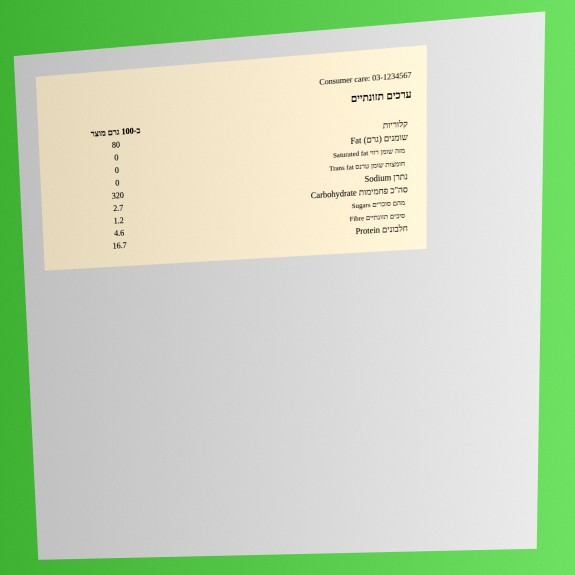carbs: (112, 202, 125, 214)
energy: (111, 139, 121, 151)
fat: (113, 152, 120, 163)
protein: (111, 239, 128, 251)
